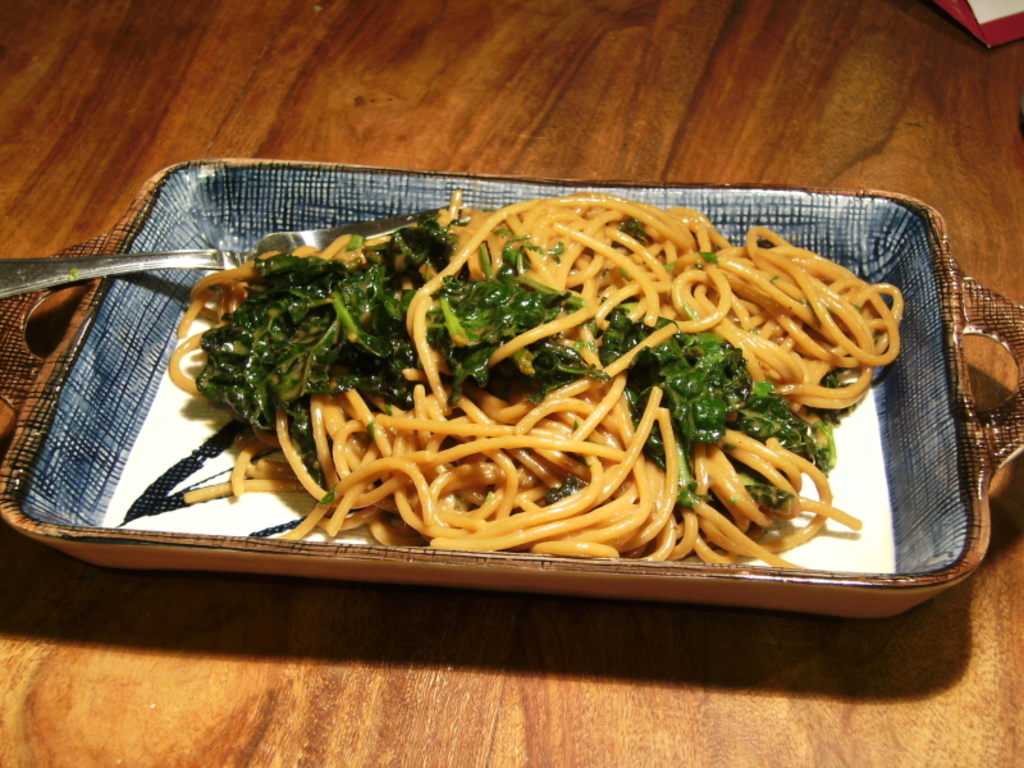pasta: (166, 189, 906, 545)
